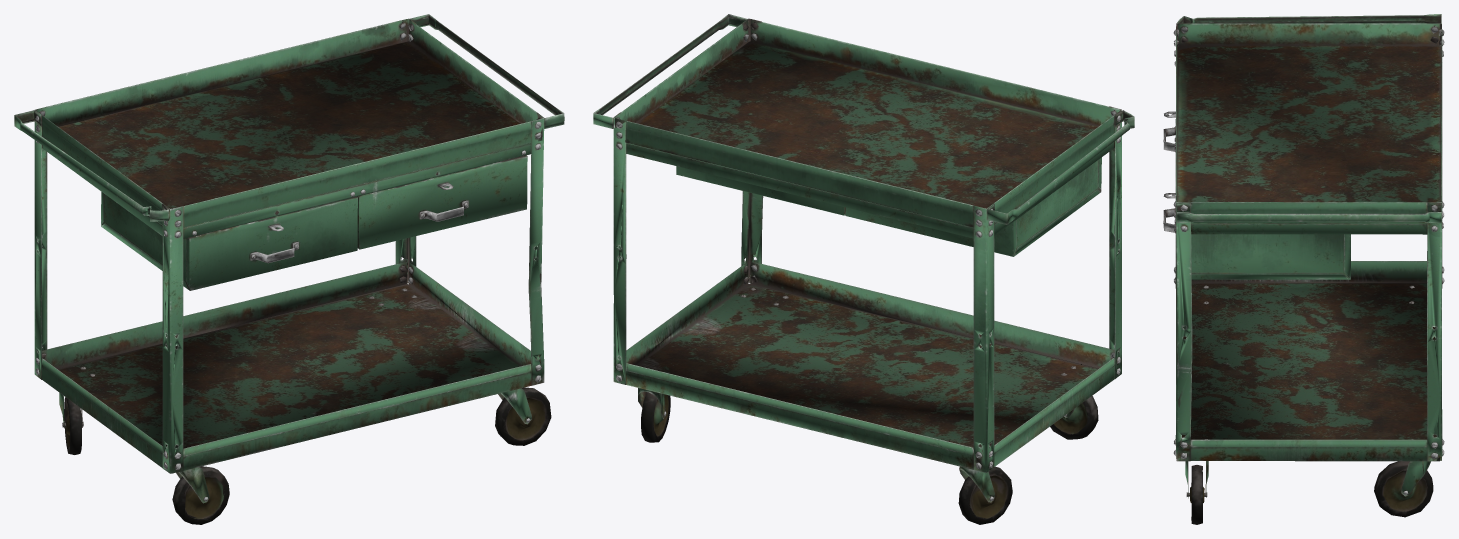
The model's file is tool_cart_1k.fbx.
3 renders of one model, left to right at view 1: azimuth 30°, elevation 25°; view 2: azimuth 150°, elevation 25°; view 3: azimuth 270°, elevation 25°, orthographic. The views are drawn at different scales.
Visible parts, largest first — view 1: tool_cart; view 2: tool_cart; view 3: tool_cart.
Part boxes in pixels (left/top/right/bottom): tool_cart: left=14, top=14, right=564, bottom=524; tool_cart: left=593, top=14, right=1134, bottom=524; tool_cart: left=1163, top=14, right=1444, bottom=524.
Size of the model in its own units: 127 by 96.52 by 75.35.
Materials: 1 (1 with a texture image).
